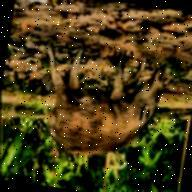boar: (28, 36, 173, 168)
